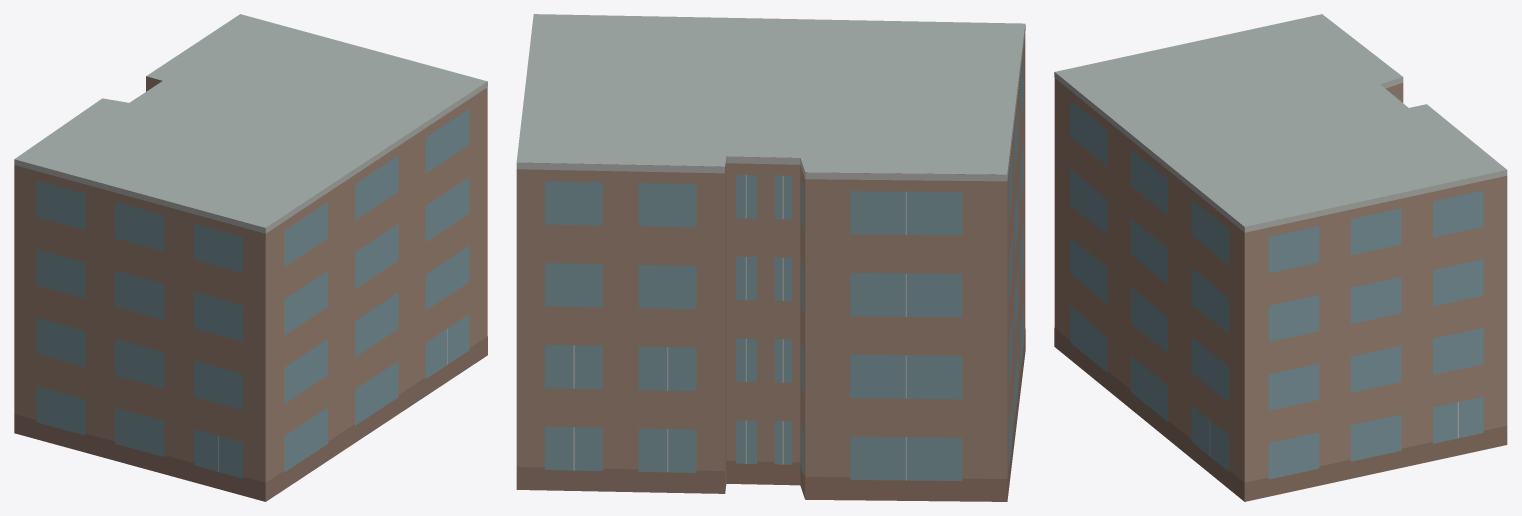
File: survey-upis-32708362.glb
3 views of the same model, side by side, from view 1: azimuth 30°, elevation 25°; view 2: azimuth 150°, elevation 25°; view 3: azimuth 270°, elevation 25° (orthographic). The views are drawn at different scales.
Parts seen in each view (by area): view 1: survey-upis-32708362.tmp; view 2: survey-upis-32708362.tmp; view 3: survey-upis-32708362.tmp.
Part boxes in pixels (x1,y1,x2,y2): survey-upis-32708362.tmp: (14,14,487,501); survey-upis-32708362.tmp: (516,14,1025,501); survey-upis-32708362.tmp: (1054,14,1507,501).
Bounding box in the file's own units: 19.45 × 11.7 × 17.48.
